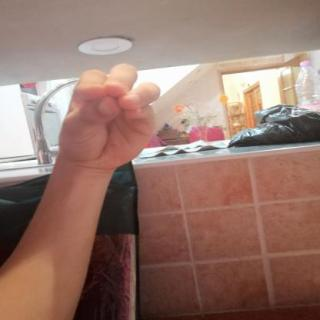HA: (46, 54, 176, 181)
